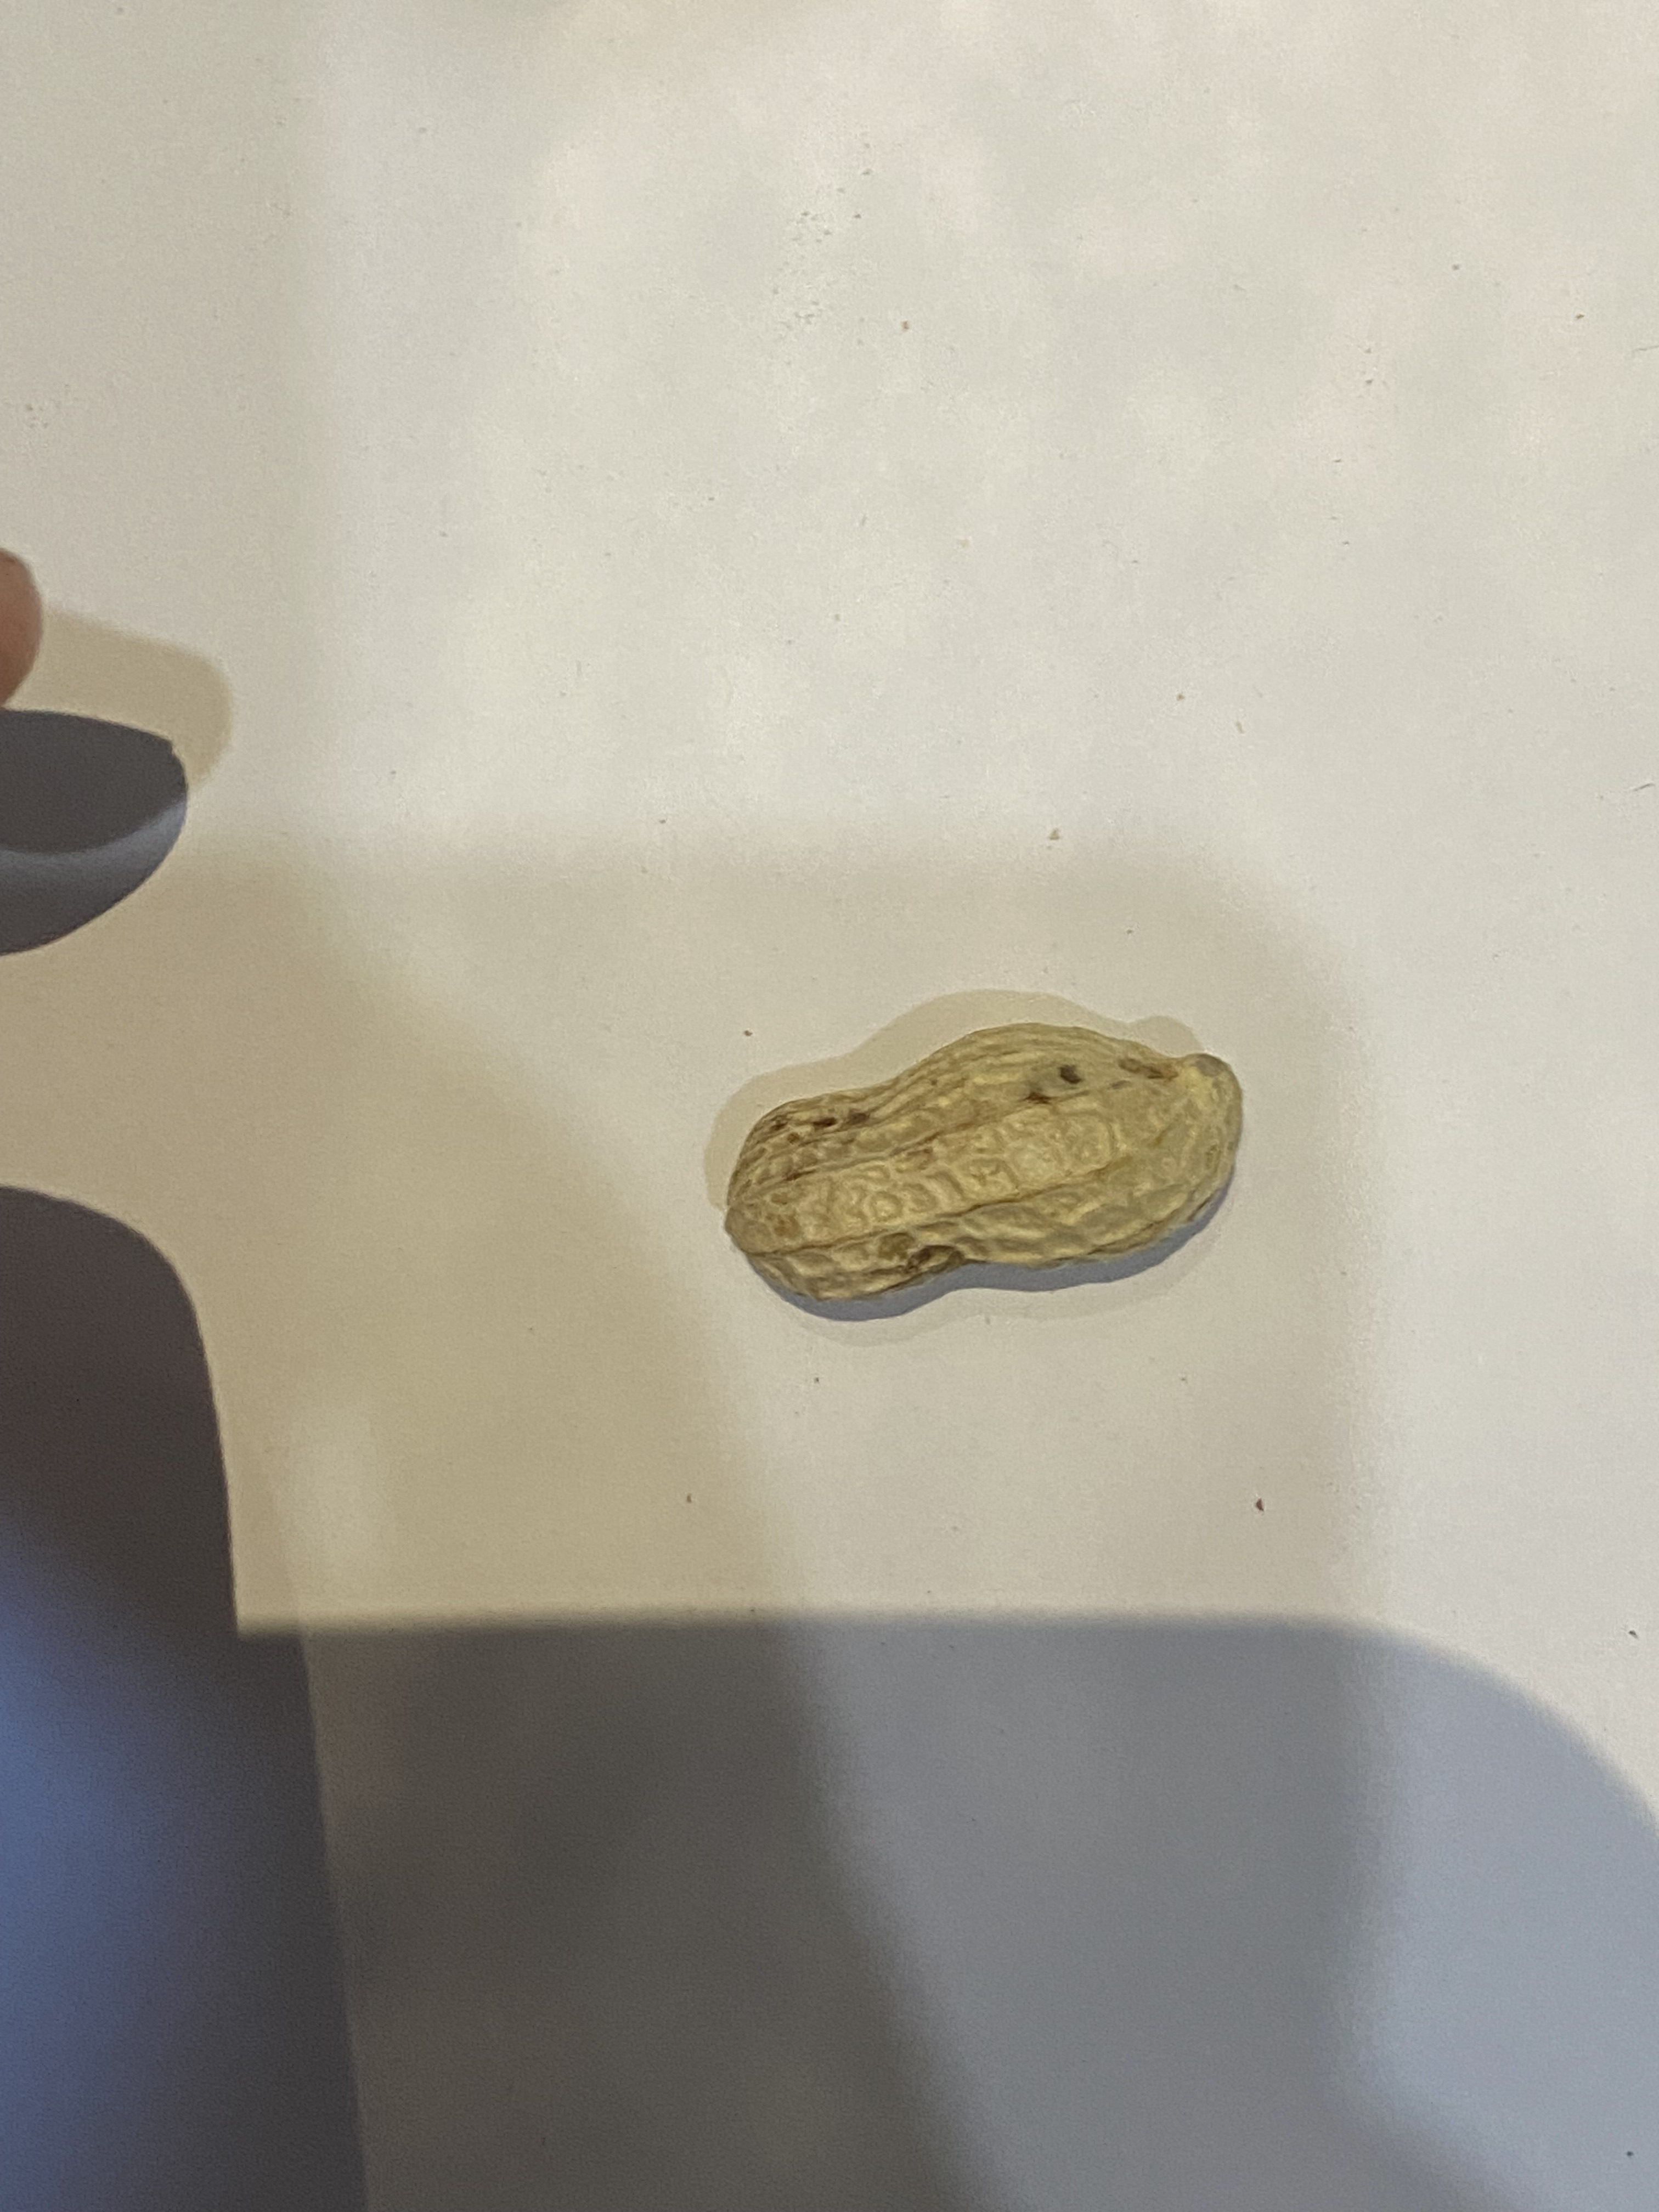kacang2: (716, 1014, 1284, 1310)
